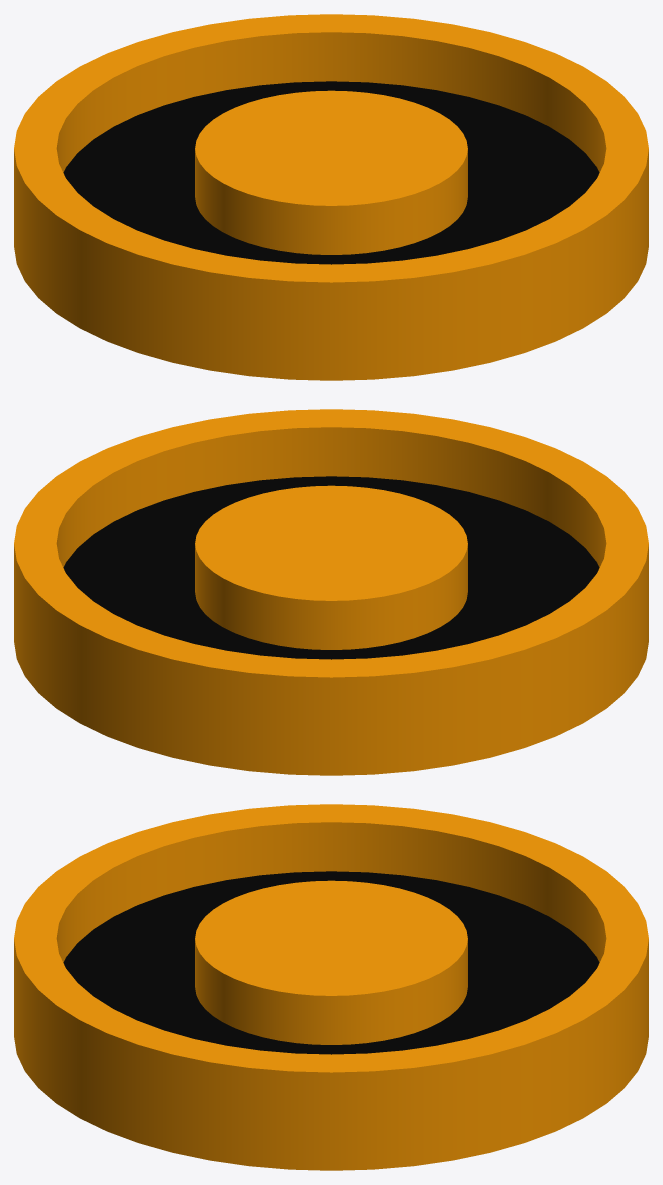
The model's file is Performance-Medium.FBX.
The picture shows the model from 3 angles, top to bottom: view 1: azimuth 30°, elevation 25°; view 2: azimuth 150°, elevation 25°; view 3: azimuth 270°, elevation 25°; orthographic projection.
Visible parts, largest first — view 1: Medium-Perf_LOD0; view 2: Medium-Perf_LOD0; view 3: Medium-Perf_LOD0.
Boxes of the visible parts, left/top/right/bottom form: Medium-Perf_LOD0: left=14, top=14, right=648, bottom=380; Medium-Perf_LOD0: left=14, top=409, right=648, bottom=775; Medium-Perf_LOD0: left=14, top=804, right=648, bottom=1170.
Size of what is drawn, in the model's own units: 0.575 by 0.0982 by 0.575.
